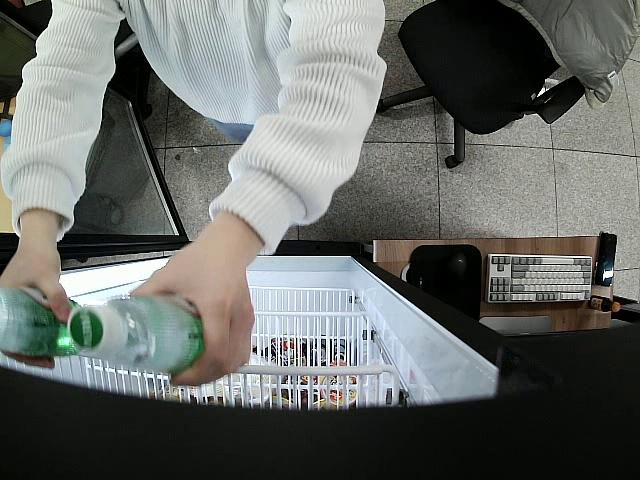00_hand: (128, 256, 256, 387), (0, 246, 69, 371)
18_trevi: (67, 295, 206, 376), (0, 287, 92, 357)
